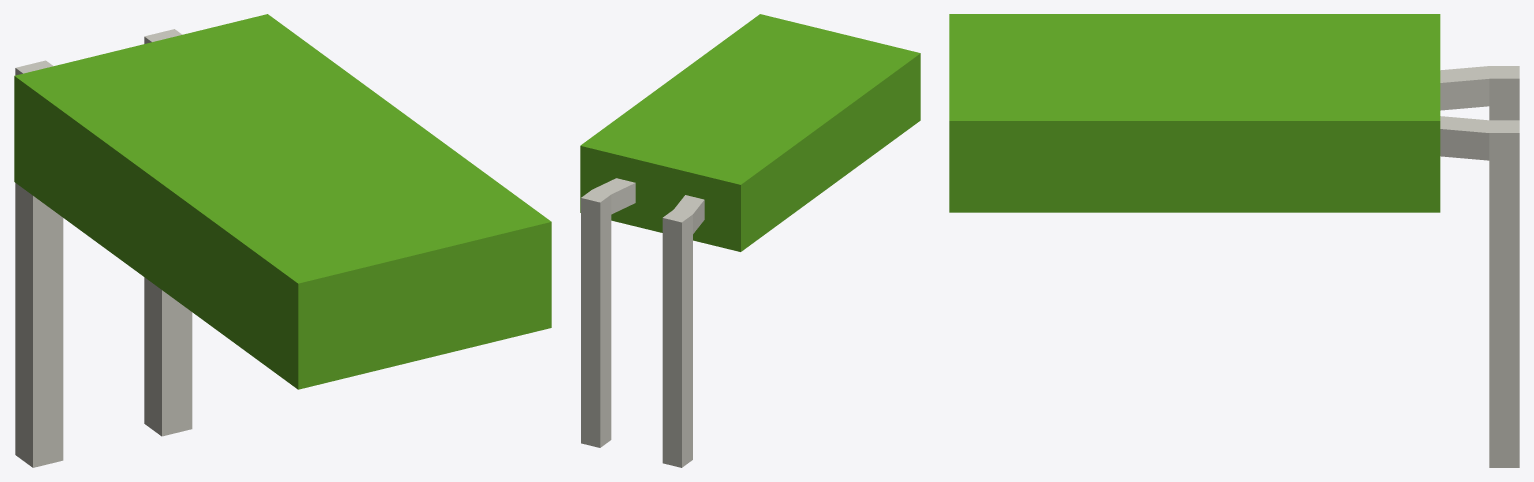
The model's file is kc-led_rectangular_w5.0mm_h2.0mm_horizontal_o1.27mm_z5.0mm.glb.
The picture shows the model from 3 angles, left to right: view 1: azimuth 30°, elevation 25°; view 2: azimuth 150°, elevation 25°; view 3: azimuth 270°, elevation 25°; orthographic projection. The views are drawn at different scales.
Visible parts, largest first — view 1: 0.16666666666666666_0.4166666666666667_0_0, 0.6666666666666666_0.6666666666666666_0.5833333333333334_0.8; view 2: 0.16666666666666666_0.4166666666666667_0_0, 0.6666666666666666_0.6666666666666666_0.5833333333333334_0.8; view 3: 0.16666666666666666_0.4166666666666667_0_0, 0.6666666666666666_0.6666666666666666_0.5833333333333334_0.8.
Part boxes in pixels (x1,y1,x2,y2): 0.16666666666666666_0.4166666666666667_0_0: [14, 14, 551, 389]; 0.6666666666666666_0.6666666666666666_0.5833333333333334_0.8: [15, 29, 192, 467]; 0.16666666666666666_0.4166666666666667_0_0: [580, 14, 920, 251]; 0.6666666666666666_0.6666666666666666_0.5833333333333334_0.8: [581, 178, 704, 467]; 0.16666666666666666_0.4166666666666667_0_0: [949, 14, 1440, 212]; 0.6666666666666666_0.6666666666666666_0.5833333333333334_0.8: [1440, 66, 1519, 467].
Size of the model in its own units: 0.5 by 0.8 by 1.13.
